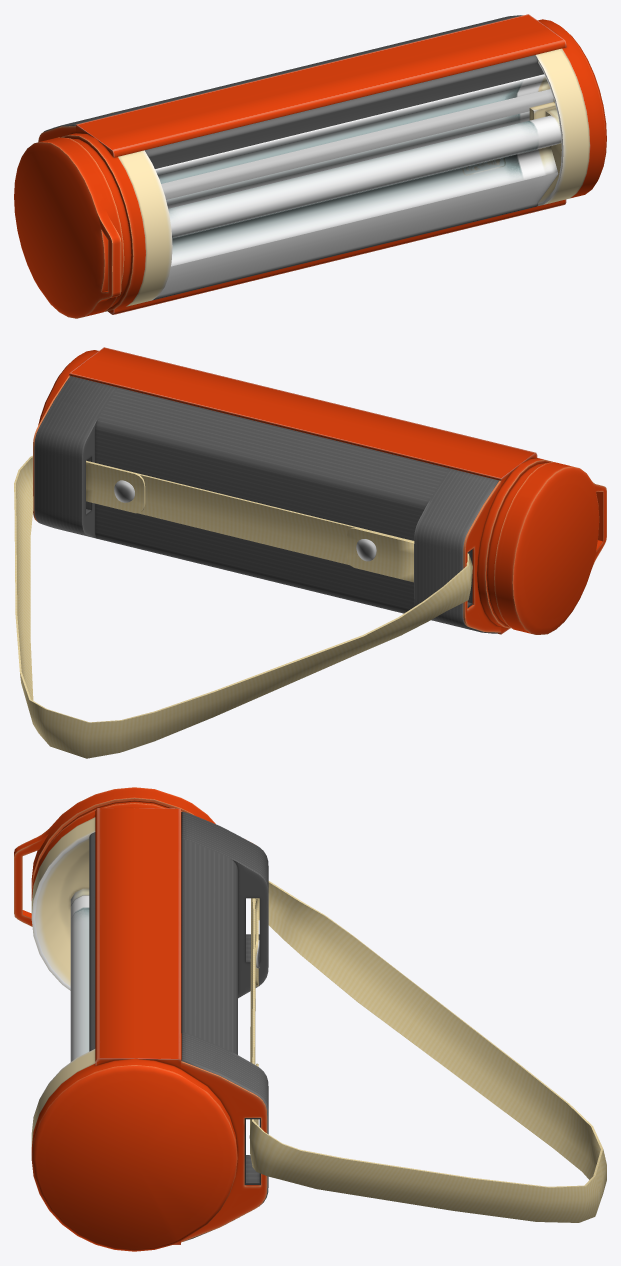
The model's file is moth_light.fbx.
3 renders of one model, top to bottom at view 1: azimuth 30°, elevation 25°; view 2: azimuth 150°, elevation 25°; view 3: azimuth 270°, elevation 25°, orthographic. The views are drawn at different scales.
Parts seen in each view (by area): view 1: light_body; view 2: light_body, belt; view 3: light_body, belt.
Part boxes in pixels (x1=…): light_body: x1=14, y1=14, x2=606, y2=318; light_body: x1=33, y1=347, x2=606, y2=634; belt: x1=14, y1=455, x2=472, y2=758; light_body: x1=14, y1=787, x2=268, y2=1251; belt: x1=249, y1=881, x2=606, y2=1222.
Size of the model in its own units: 0.2918 by 0.2598 by 0.1199.
